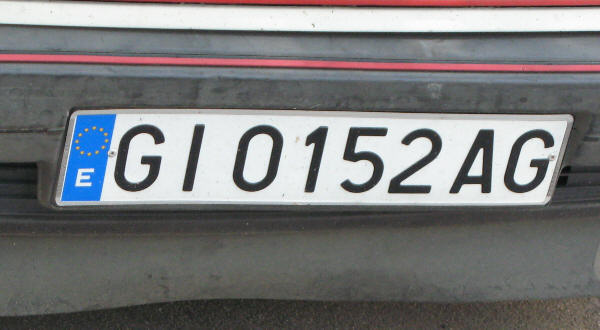license_plate: (52, 111, 572, 207)
